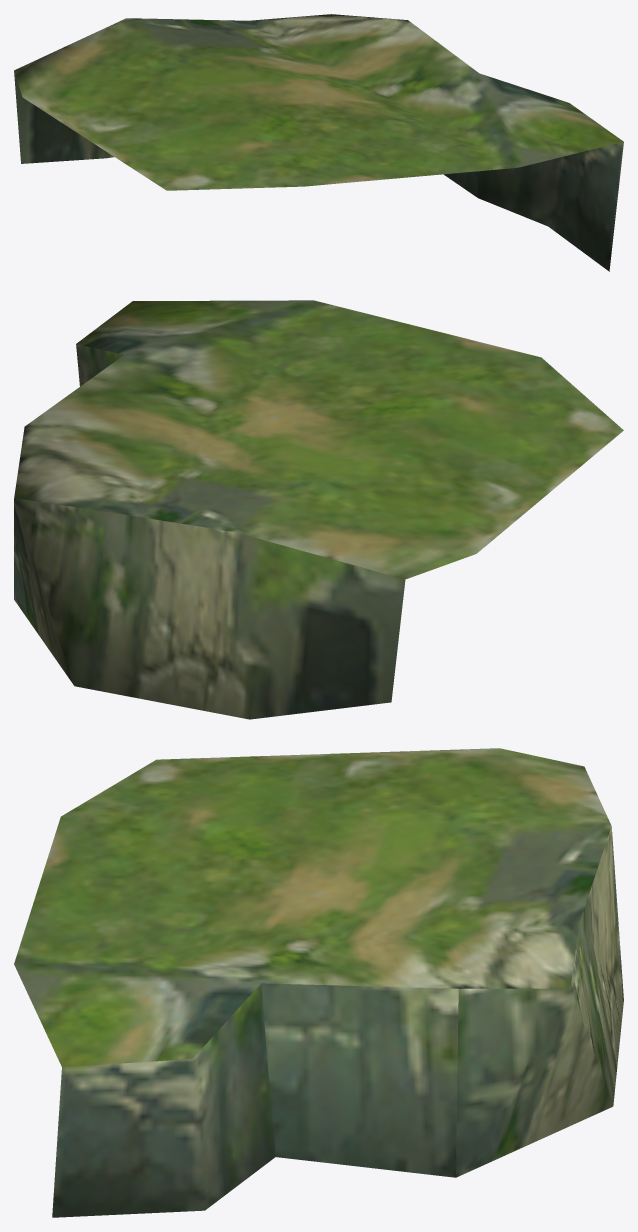
Rendered from S_Rock_Green054_1060_22.fbx.
3 views of the same model, one above another, from view 1: azimuth 30°, elevation 25°; view 2: azimuth 150°, elevation 25°; view 3: azimuth 270°, elevation 25° (orthographic). The views are drawn at different scales.
Visible parts, largest first — view 1: S_Rock_Green054_1060_22; view 2: S_Rock_Green054_1060_22; view 3: S_Rock_Green054_1060_22.
Part boxes in pixels (<box>): S_Rock_Green054_1060_22: <box>14,14,623,271</box>; S_Rock_Green054_1060_22: <box>14,300,623,719</box>; S_Rock_Green054_1060_22: <box>14,748,623,1217</box>.
Size of the model in its own units: 1588 by 573 by 1460.
1 material, 1 textured.
